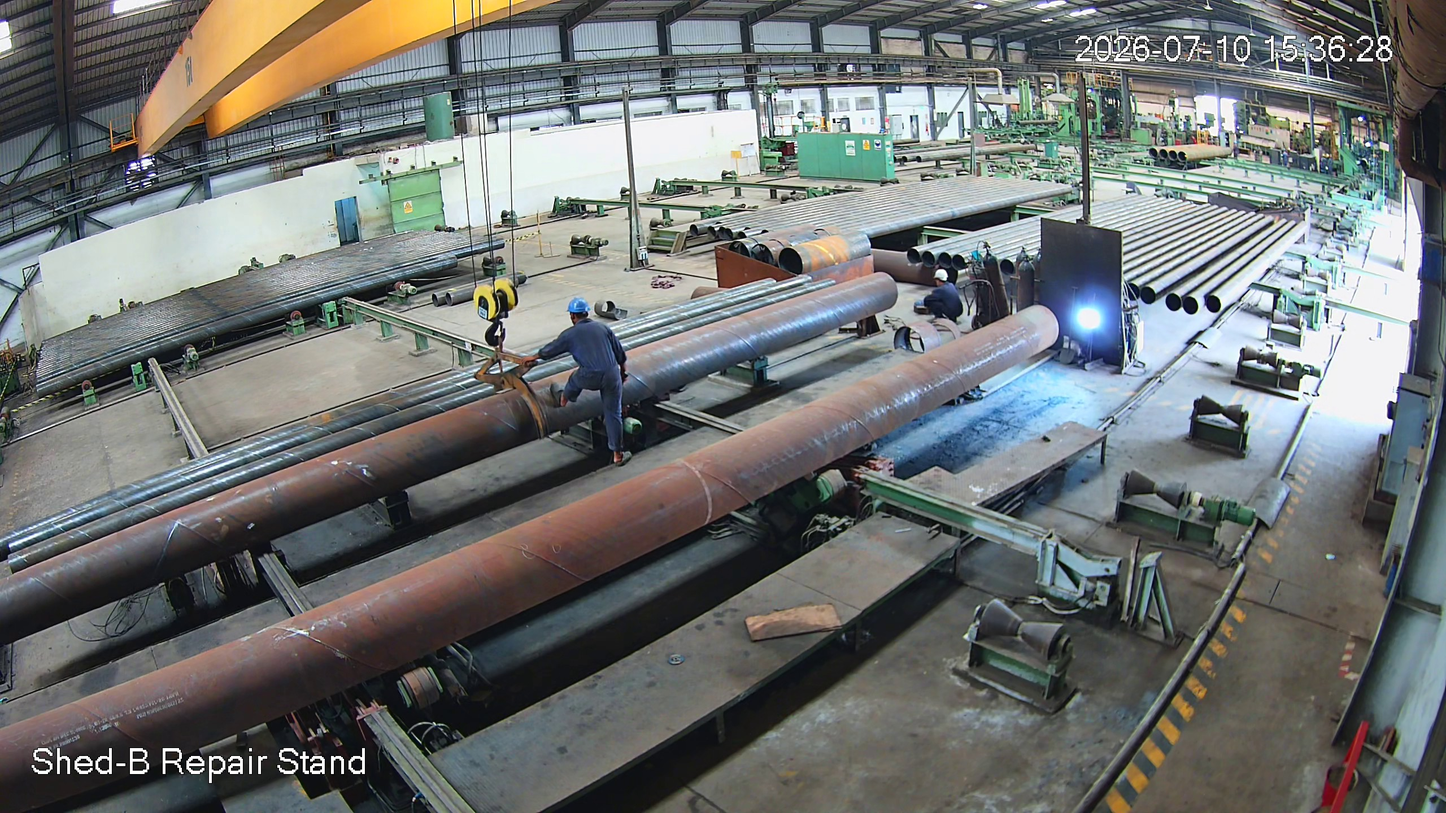Helmet: (566, 294, 601, 335), (933, 263, 951, 292)
Person: (558, 297, 636, 463), (922, 265, 962, 321)
